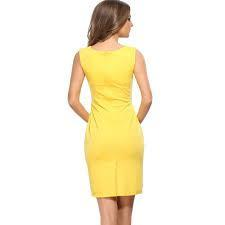dress: (78, 45, 145, 199)
